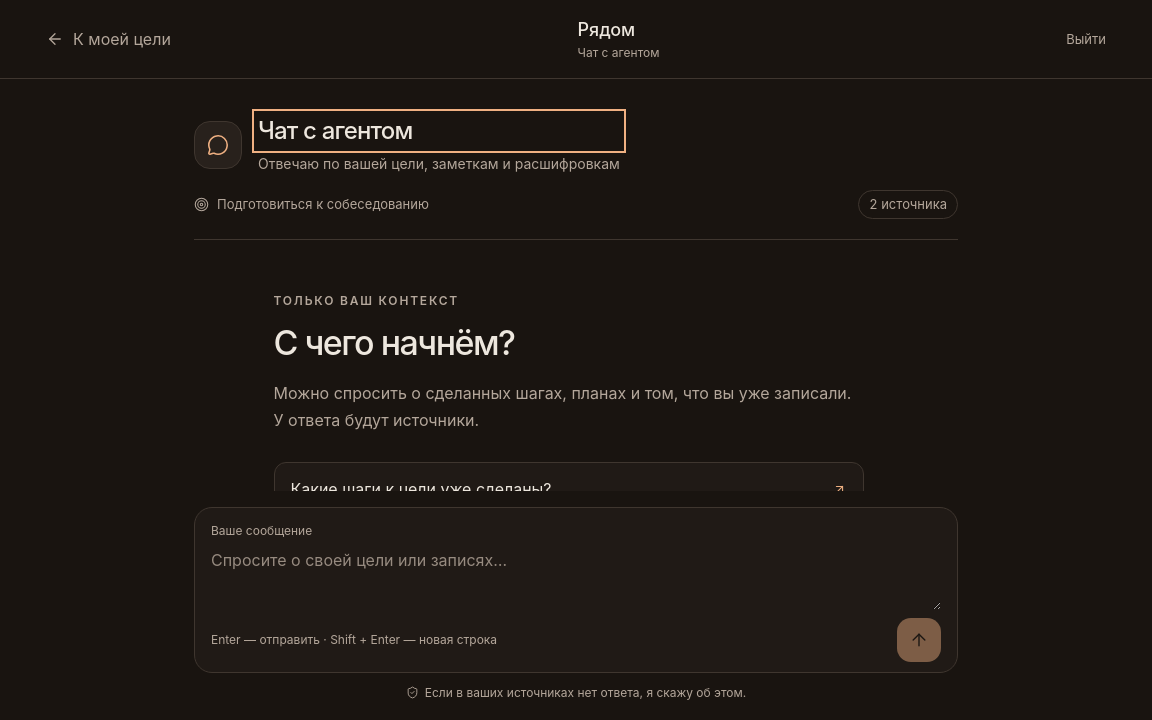
bounds a stalled request and preserves the same retry draft
In the text box: (576, 579) [211,548,941,610], type "Вопрос с таймаутом"
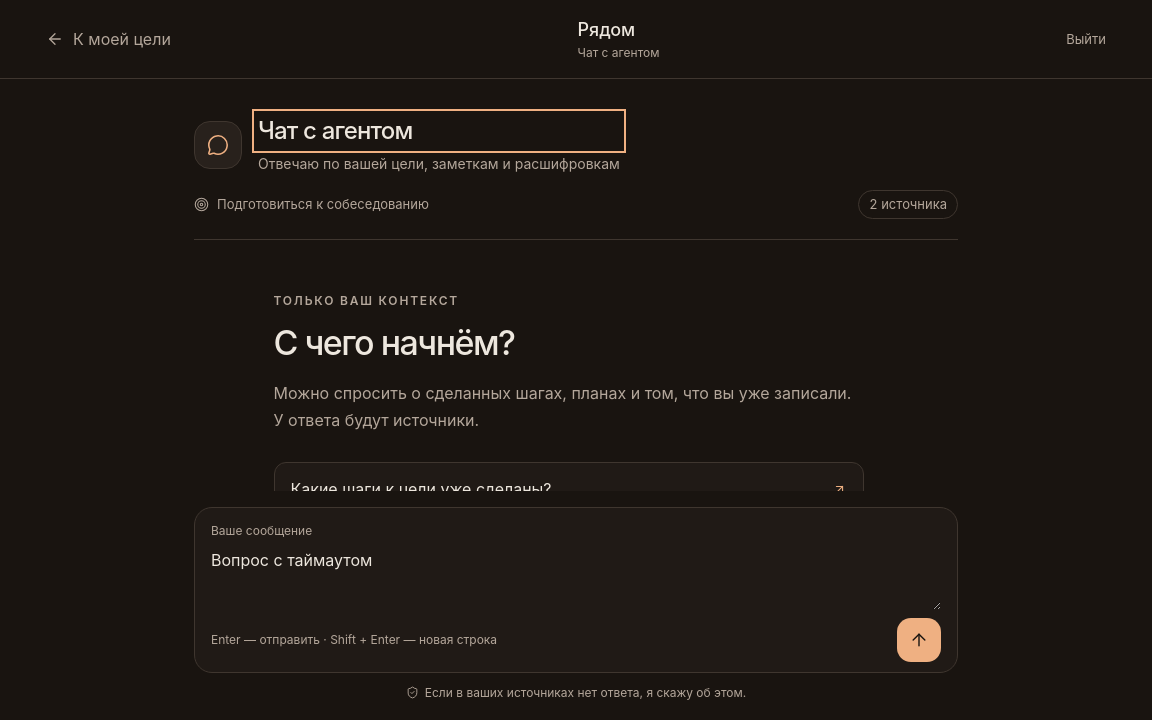
Click the button named "Отправить сообщение": (919, 640) [897,618,941,662]
Wait 130001 ms
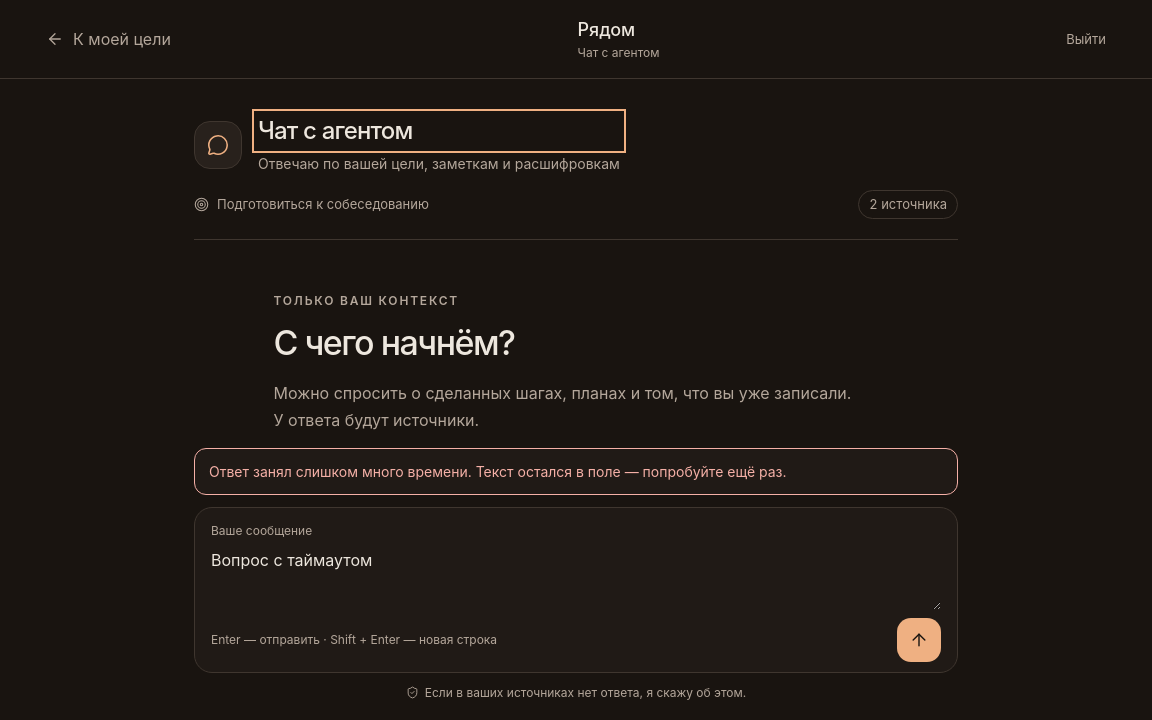
Now the message shows "слишком много времени", box [209,463,786,480]
